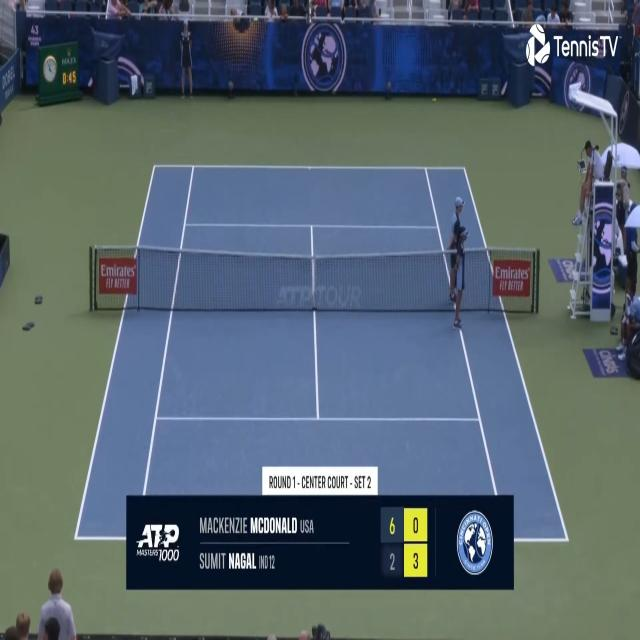tennis-player: (34, 562, 80, 639)
